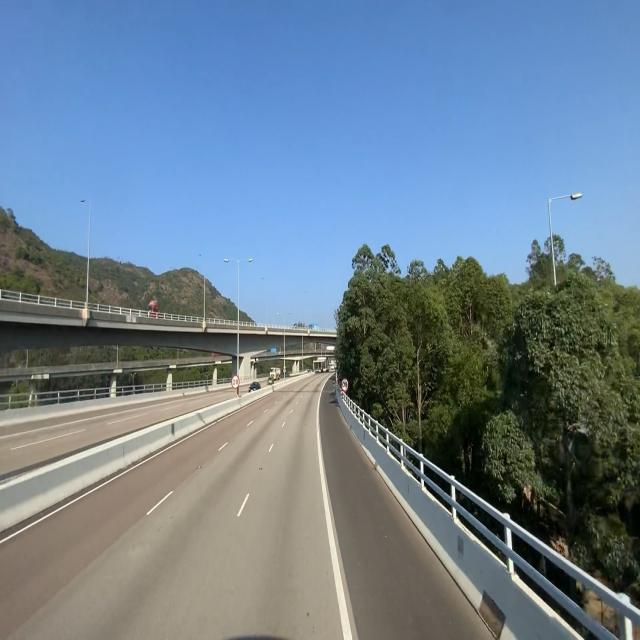Car: (247, 375, 261, 397)
